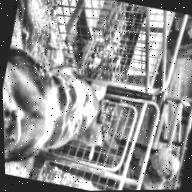boar: (1, 46, 118, 182)
